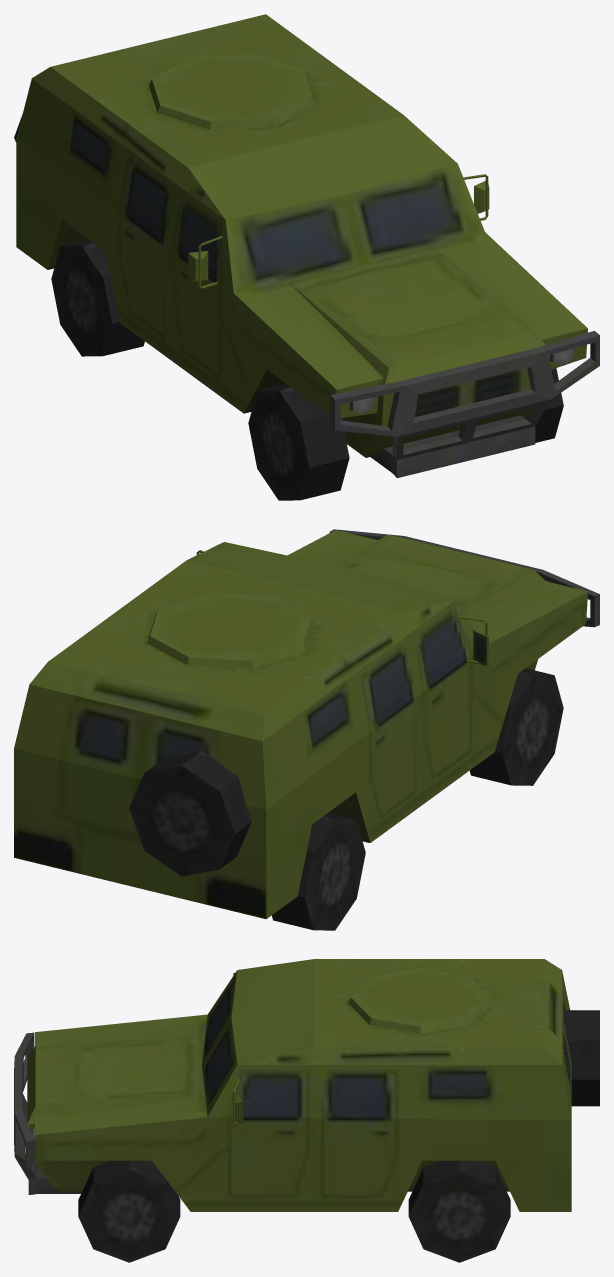
File: mil-armoured-car.lod1.glb
The picture shows the model from 3 angles, top to bottom: view 1: azimuth 30°, elevation 25°; view 2: azimuth 150°, elevation 25°; view 3: azimuth 270°, elevation 25°; orthographic projection. The views are drawn at different scales.
Parts seen in each view (by area): view 1: Tiger_Tiger_0; view 2: Tiger_Tiger_0; view 3: Tiger_Tiger_0.
Boxes of the visible parts, <box> form: Tiger_Tiger_0: <box>14,14,599,500</box>; Tiger_Tiger_0: <box>14,529,599,930</box>; Tiger_Tiger_0: <box>14,959,599,1262</box>.
Bounding box in the file's own units: 2.82 × 2.29 × 5.7.
Materials: 1 (1 with a texture image).
